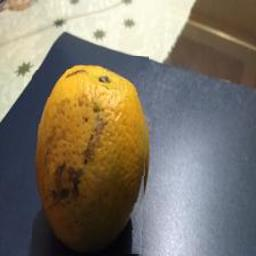Orange Semifresh: (32, 56, 149, 256)
